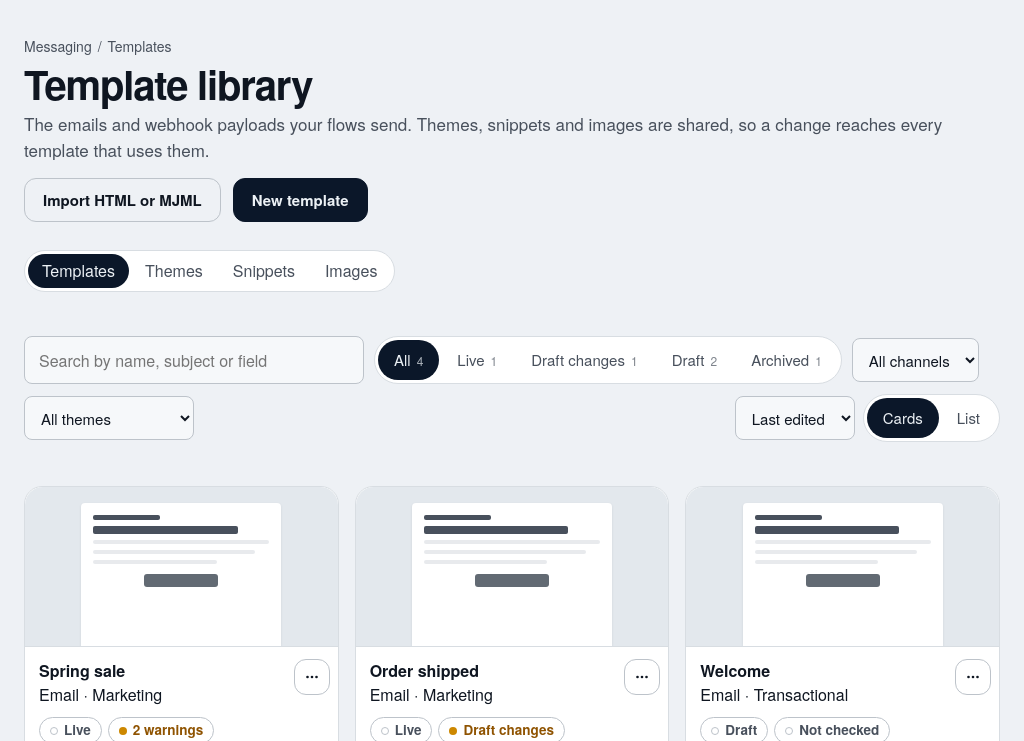
Test: making a template › shows the refusal when the name is taken
Click the button "New template": (300, 200) [233, 178, 368, 222]
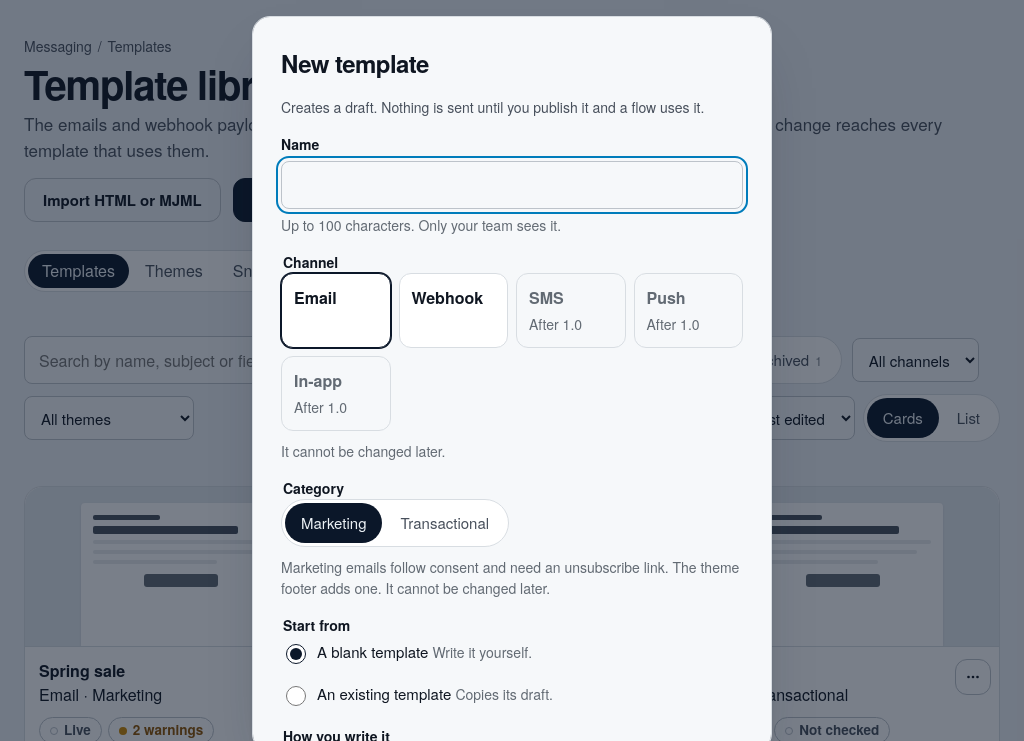
In the field labelled "Name": (512, 185) [281, 161, 743, 209], type "Welcome"
(page scrolled)
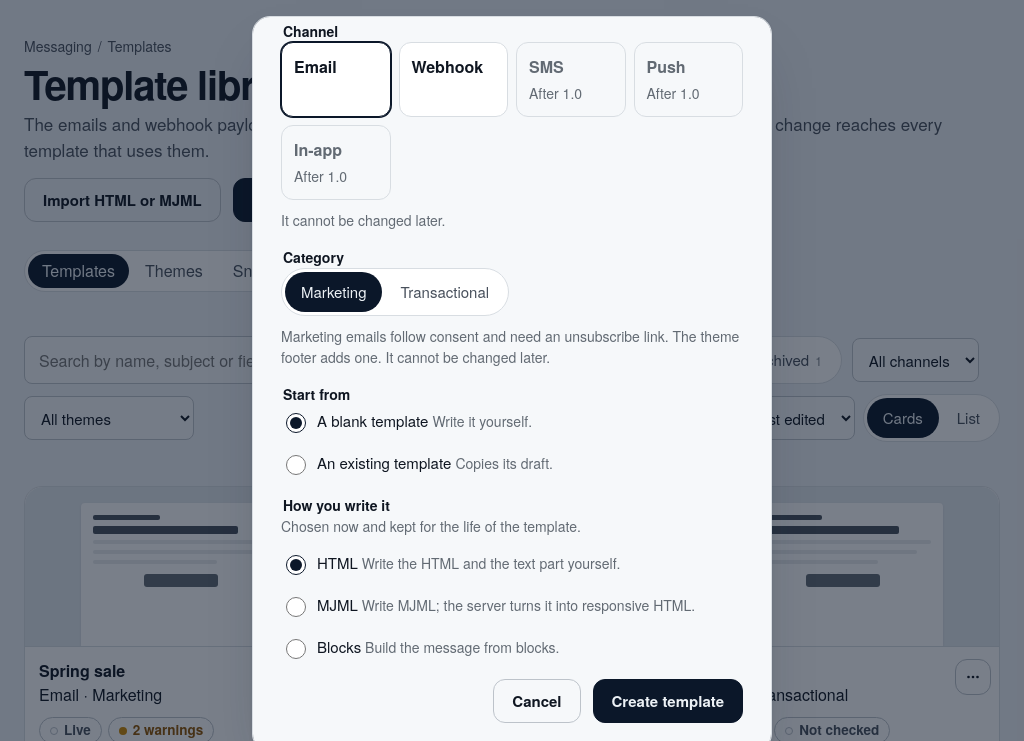
Click the button "Create template": (668, 701) [592, 679, 743, 723]
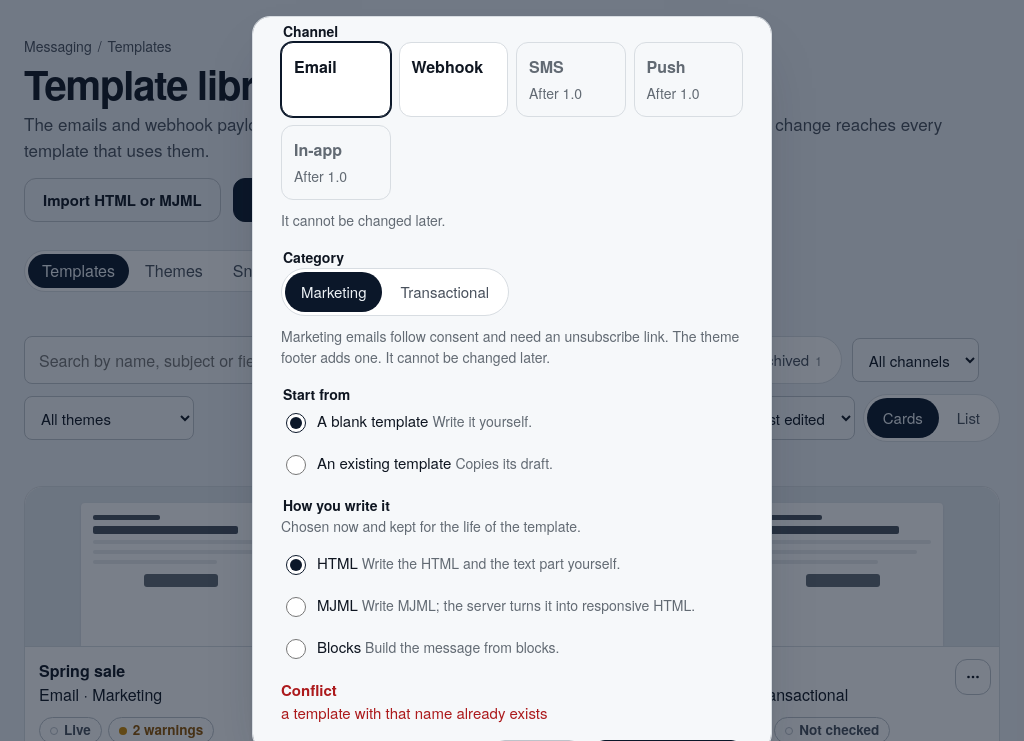
Result: the text "a template with that name already exists" is shown at [281, 702, 548, 722]
